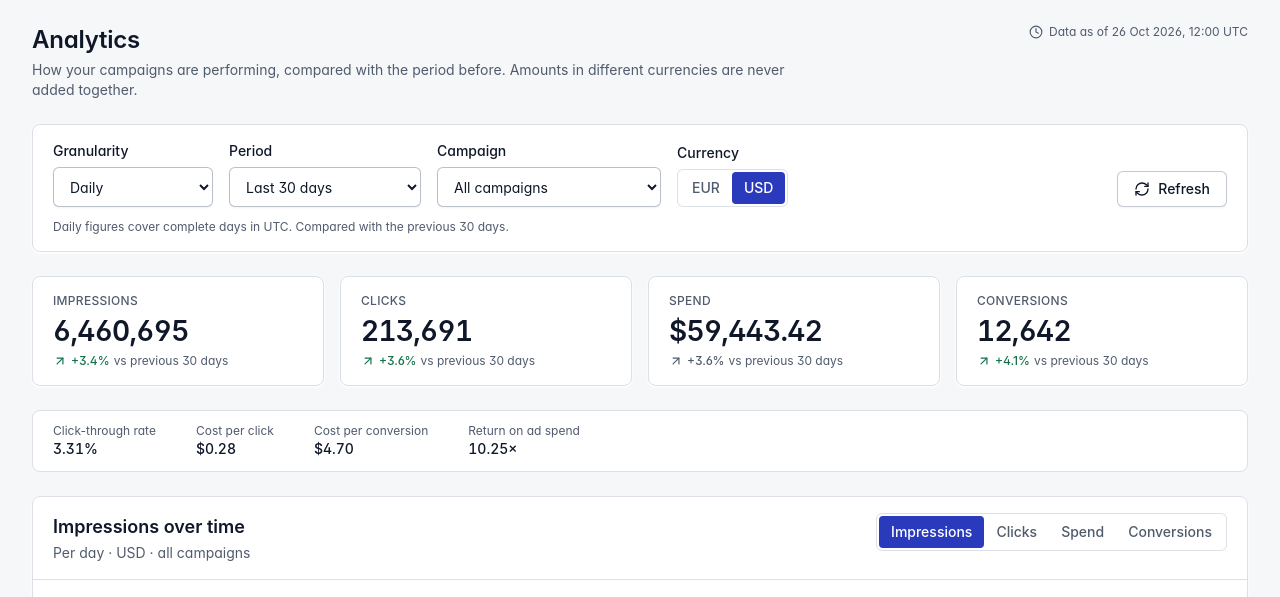
Test: AnalyticsView › keeps currencies apart
This screenshot has width=1280, height=597.
Click the button "EUR" at x=706, y=188, box [680, 172, 732, 204]
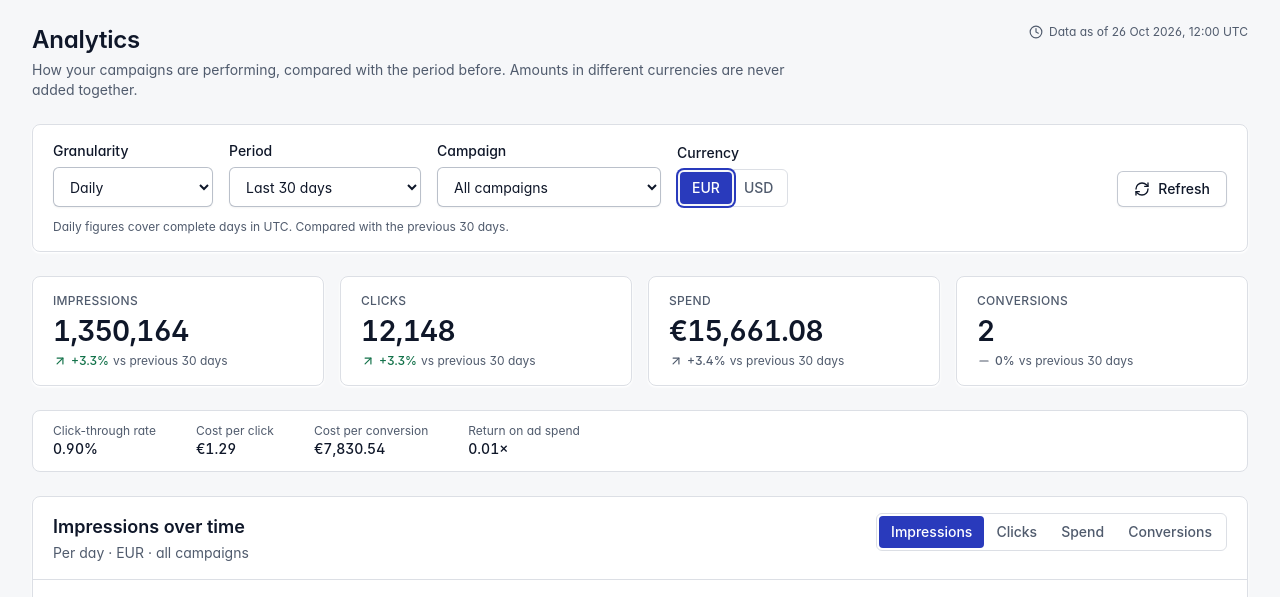
Check: the text "Per day · EUR · all campaigns" is shown, box [53, 543, 249, 563]
